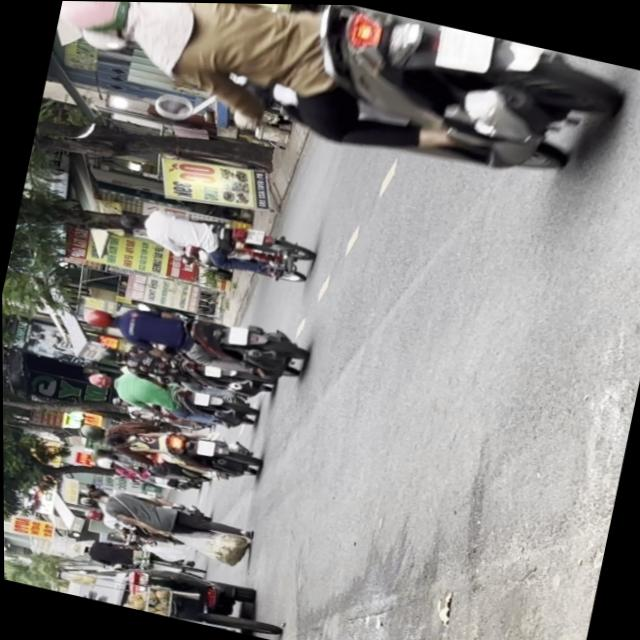helmet: (52, 1, 156, 60), (80, 305, 116, 329), (74, 420, 105, 442)
licenseplate: (44, 1, 627, 203), (74, 284, 311, 386), (108, 193, 317, 289), (73, 403, 263, 486)
motorcyclist: (99, 428, 135, 451), (115, 208, 146, 231)
nohelmet: (433, 24, 492, 72), (224, 323, 246, 345), (242, 226, 263, 244), (193, 438, 213, 455)
